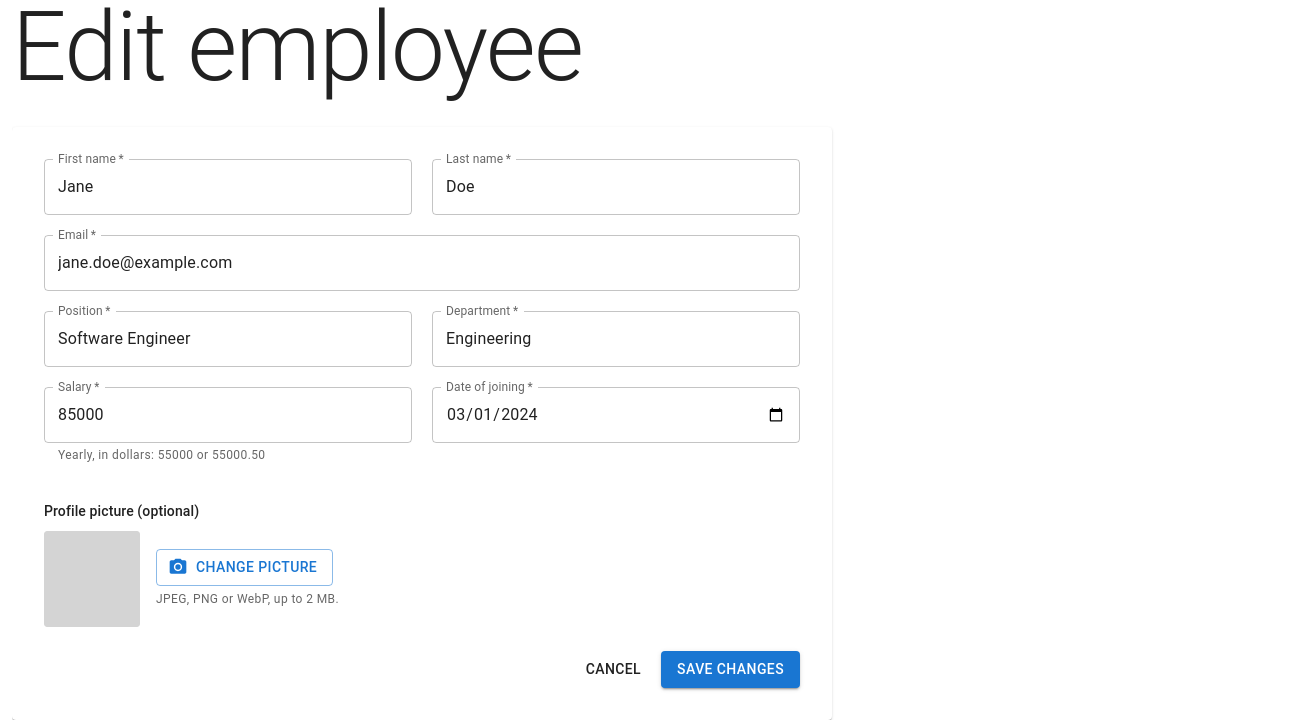
EditEmployeePage: saving › leaves for the list with a message when the employee was deleted in the meantime (404)
The width and height of the screenshot is (1292, 720).
(page scrolled)
Expected: the field showing "Jane" is shown, x1=44 y1=158 x2=412 y2=214
Click the button "Save changes".
click(731, 670)  # box x1=661 y1=651 x2=800 y2=688
(page scrolled)
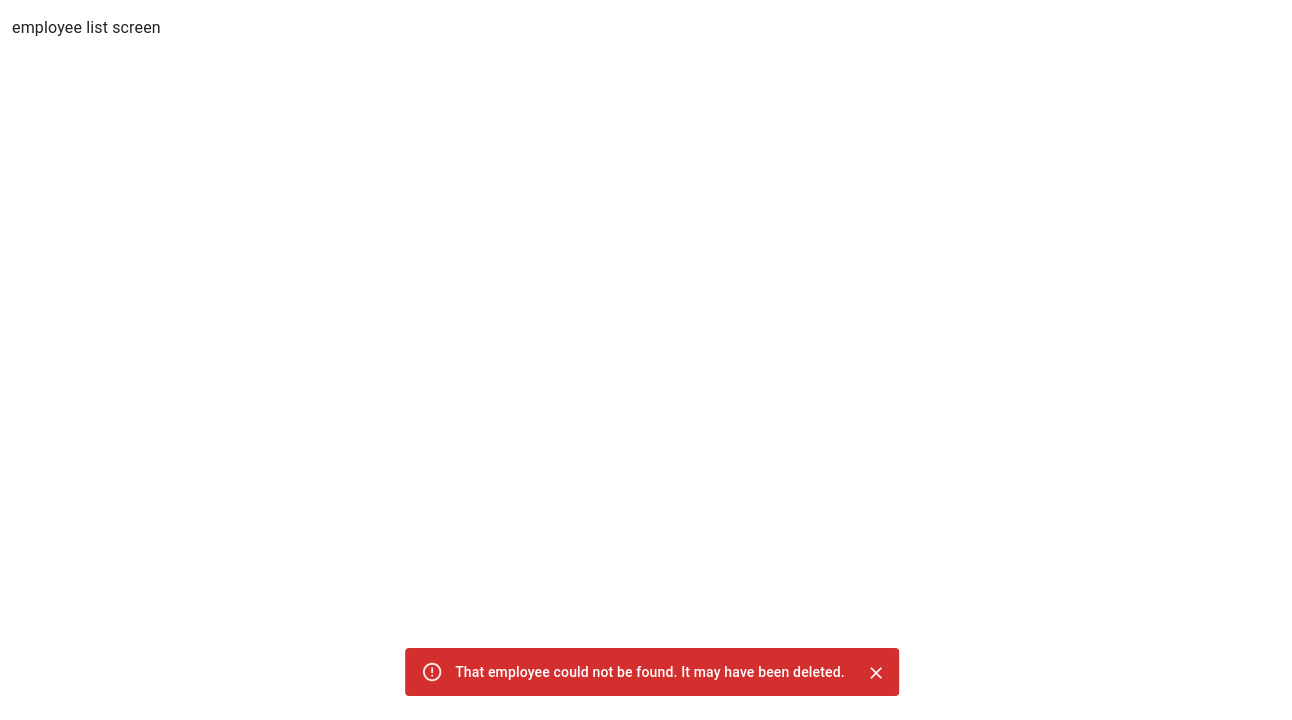
Expected: the text "employee list screen" is shown, x1=12 y1=18 x2=161 y2=37
Expected: the text "That employee could not be found. It may have been deleted." is shown, x1=455 y1=664 x2=845 y2=680
